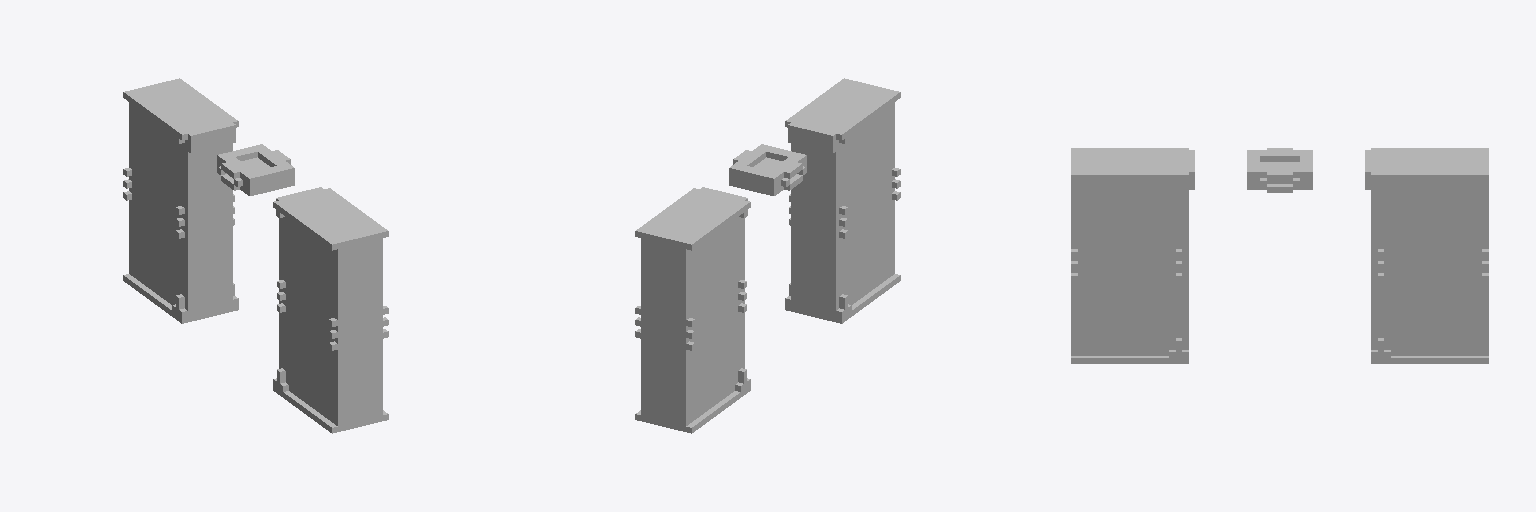
Rendered from door_frame.obj.
3 renders of one model, left to right at view 1: azimuth 30°, elevation 25°; view 2: azimuth 150°, elevation 25°; view 3: azimuth 270°, elevation 25°, orthographic.
Visible parts, largest first — view 1: object 1; view 2: object 1; view 3: object 1.
Part boxes in pixels (left/top/right/bottom): object 1: left=123, top=78, right=388, bottom=433; object 1: left=635, top=78, right=900, bottom=433; object 1: left=1071, top=148, right=1488, bottom=363.
Size of the model in its own units: 1 by 3.2 by 6.4.